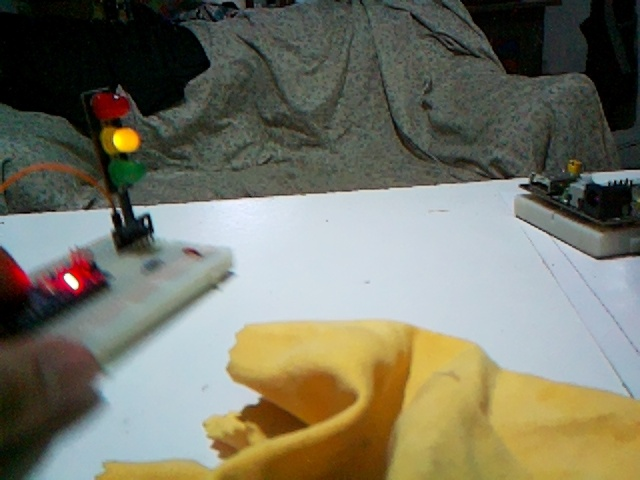traffic_light_yellow: (81, 84, 154, 248)
